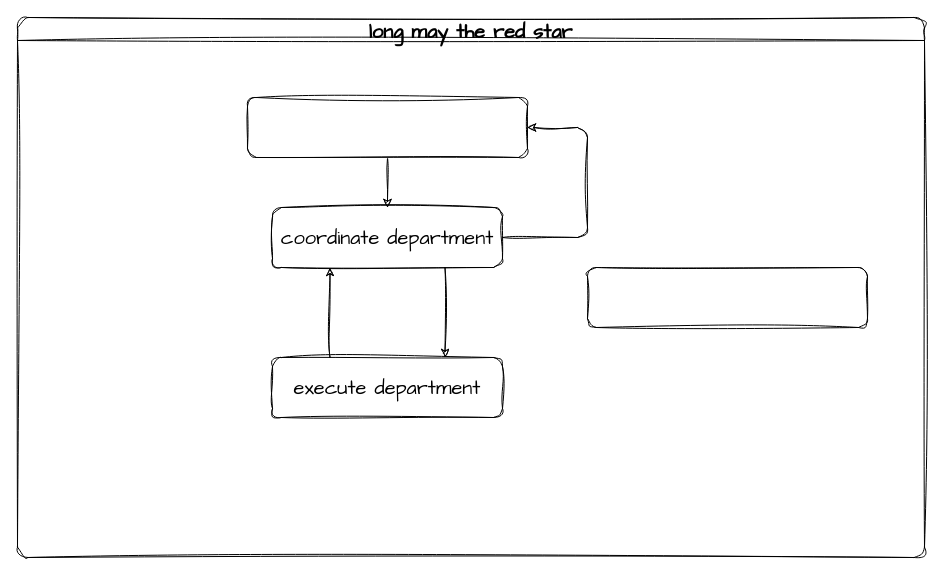
This 942x575 diagram has some shape labels left out. Each missing label, with the centre of its shape:
decision making department: pixel 387 127
the republic: pixel 727 297
